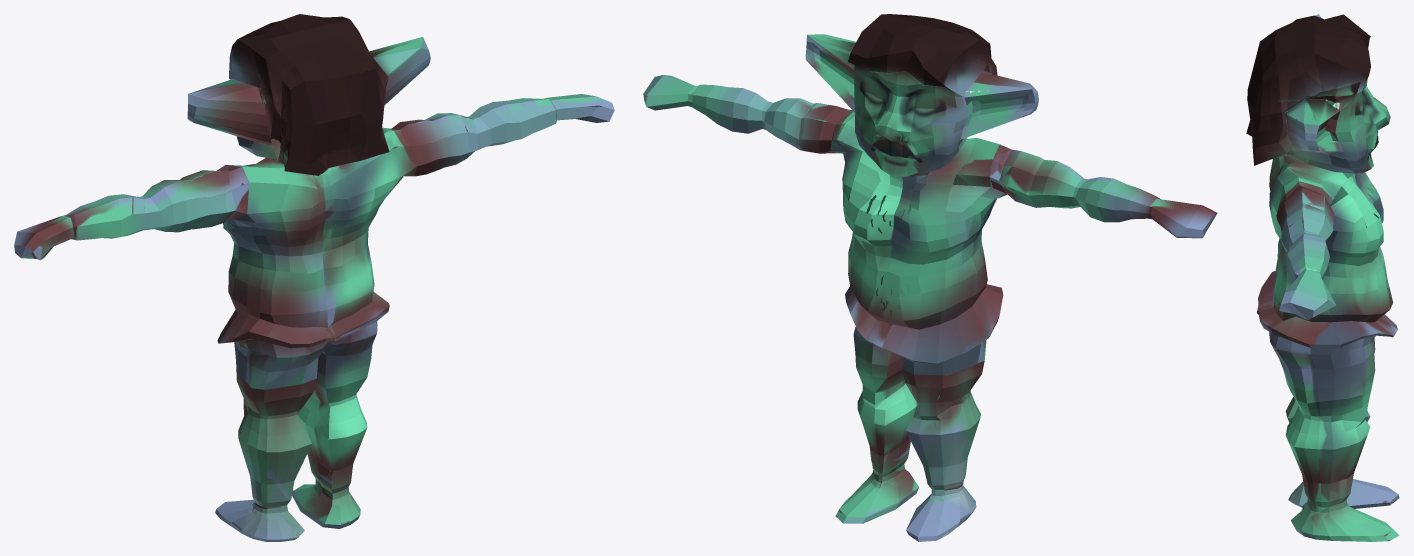
File: parçalanmış_goblin.fbx
The picture shows the model from 3 angles, left to right: view 1: azimuth 30°, elevation 25°; view 2: azimuth 150°, elevation 25°; view 3: azimuth 270°, elevation 25°; orthographic projection. The views are drawn at different scales.
Visible parts, largest first — view 1: Goblin_L.004, Goblin_L, Goblin_L.001, Goblin_L.008, Goblin_L.003, Goblin_L.007, Goblin_L.009, Goblin_L.006, Goblin_L.002; view 2: Goblin_L, Goblin_L.004, Goblin_L.001, Goblin_L.008, Goblin_L.007, Goblin_L.003, Goblin_L.006, Goblin_L.009, Goblin_L.002; view 3: Goblin_L.001, Goblin_L.004, Goblin_L.007, Goblin_L.006, Goblin_L.008, Goblin_L.
Boxes of the visible parts, <box> form: Goblin_L.004: <box>229,14,430,175</box>; Goblin_L: <box>217,158,336,389</box>; Goblin_L.001: <box>298,127,416,471</box>; Goblin_L.008: <box>215,362,316,541</box>; Goblin_L.003: <box>64,165,249,240</box>; Goblin_L.007: <box>391,94,614,176</box>; Goblin_L.009: <box>187,78,272,147</box>; Goblin_L.006: <box>292,453,360,528</box>; Goblin_L.002: <box>14,215,73,260</box>; Goblin_L: <box>882,138,1007,375</box>; Goblin_L.004: <box>805,14,997,177</box>; Goblin_L.001: <box>830,109,918,455</box>; Goblin_L.008: <box>902,361,984,541</box>; Goblin_L.007: <box>643,75,848,153</box>; Goblin_L.003: <box>989,144,1160,222</box>; Goblin_L.006: <box>835,439,919,523</box>; Goblin_L.009: <box>956,70,1038,149</box>; Goblin_L.002: <box>1148,198,1217,238</box>; Goblin_L.001: <box>1257,162,1397,483</box>; Goblin_L.004: <box>1246,14,1390,173</box>; Goblin_L.007: <box>1276,185,1336,319</box>; Goblin_L.006: <box>1291,473,1399,541</box>; Goblin_L.008: <box>1285,350,1399,508</box>; Goblin_L: <box>1257,150,1397,350</box>.
Size of the model in its own units: 5.35 by 4.35 by 1.25.
1 material, 1 textured.
